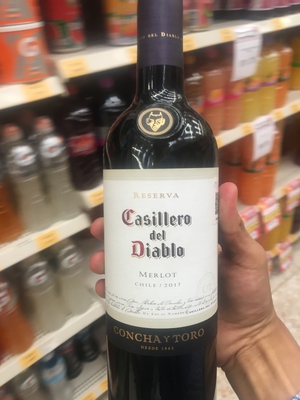casillero del diablo merlot: (96, 17, 224, 400)
